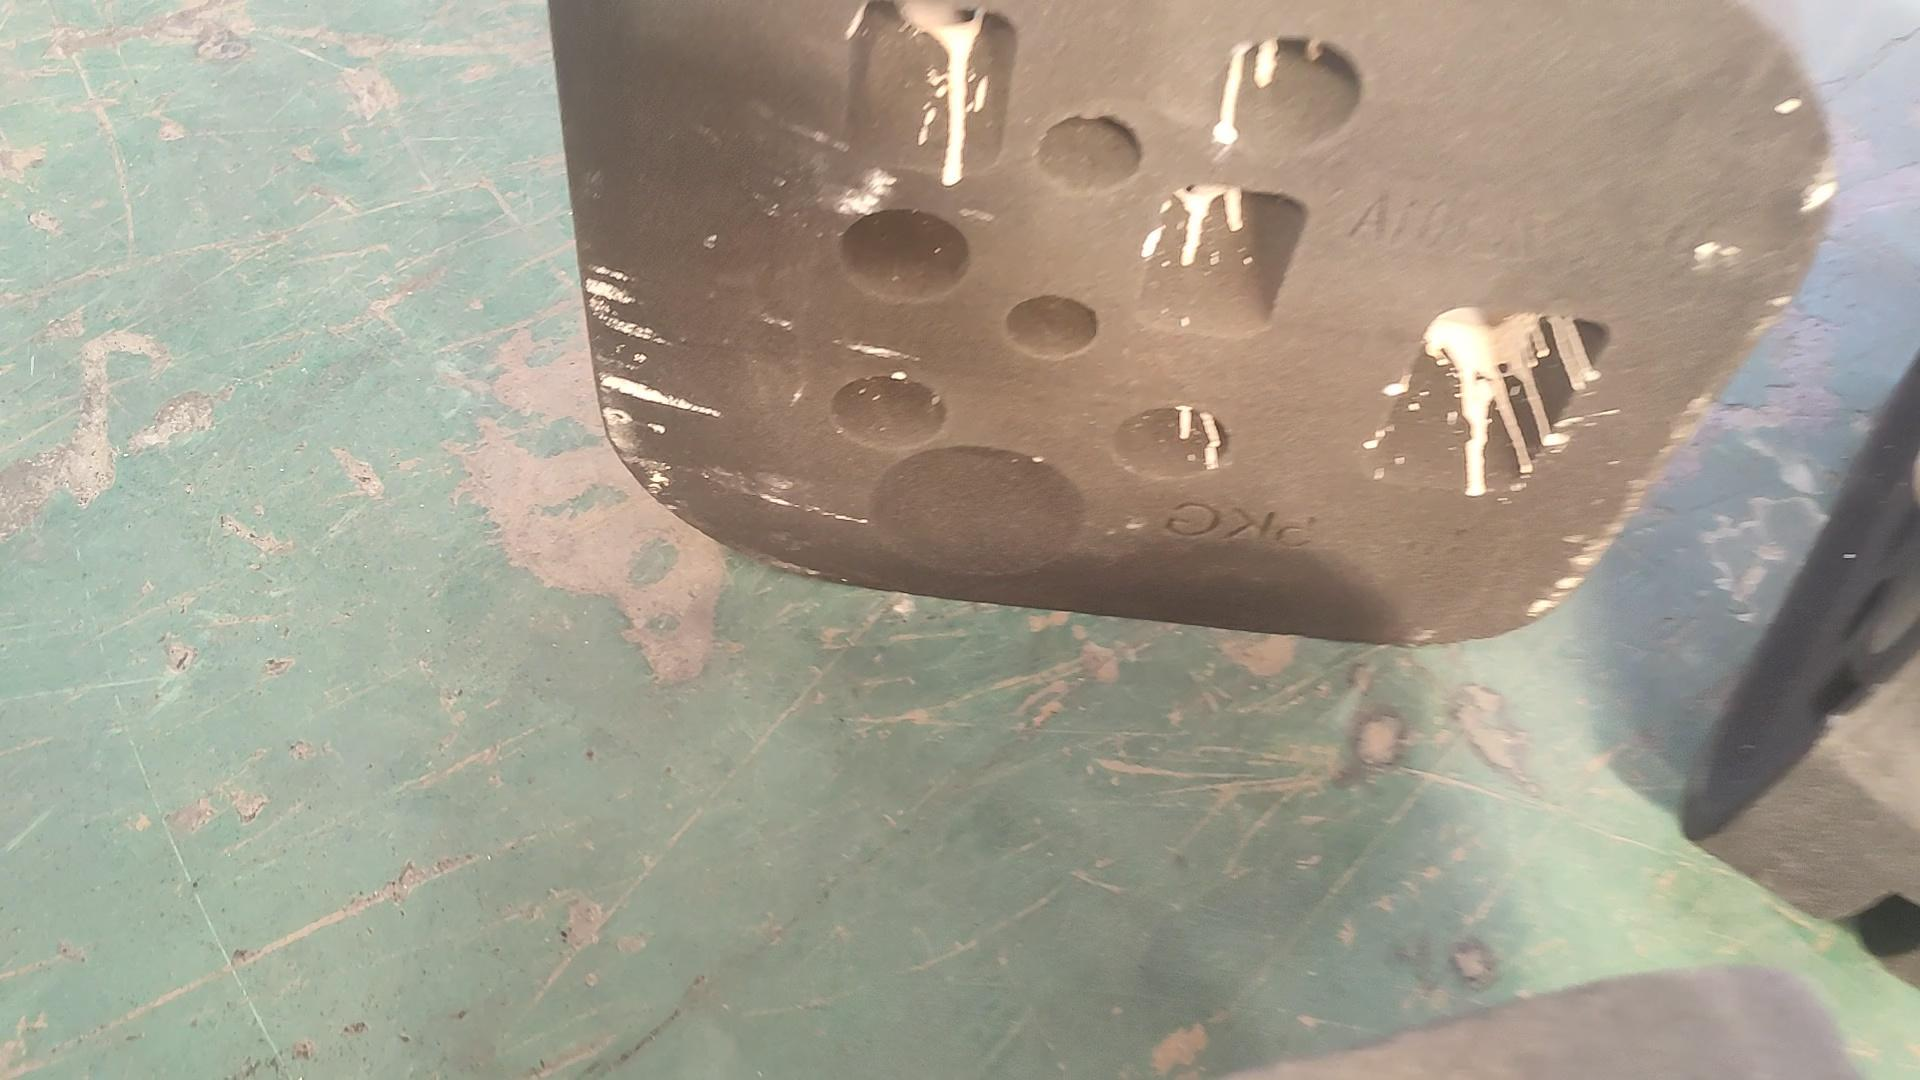pouring hole: (865, 446, 1088, 578)
